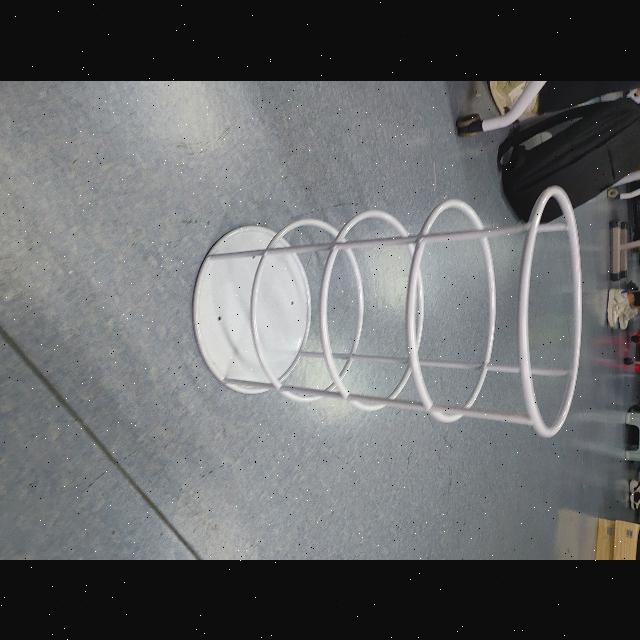S: (186, 182, 586, 442)
